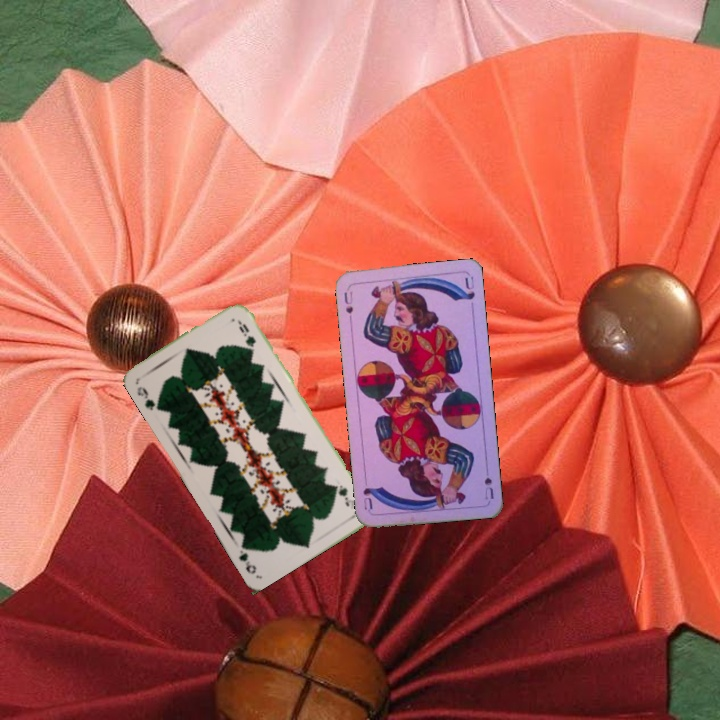G9: (133, 382, 163, 413), (332, 480, 357, 512)
SU: (480, 461, 496, 502), (340, 287, 356, 325)
